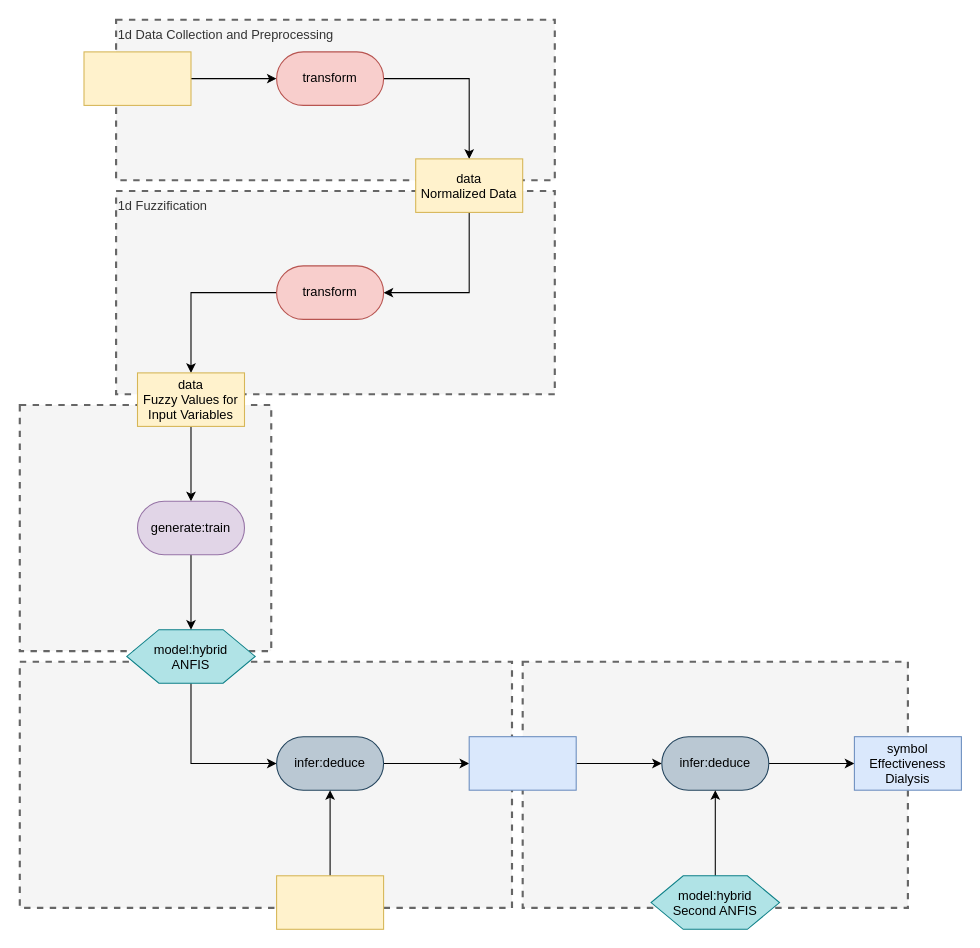
This 980x948 diagram has some shape labels left out. The shapes that lost their labels are listed below. From the top down, each one's box as (x1, y1, x2, y2) in pixels, then its label:
(83, 51, 191, 105): data Raw Patient Data
(18, 403, 272, 652): 1c System Creation
(468, 736, 576, 790): symbol Single Crisp Prediction
(18, 660, 513, 908): 2a Aggregation
(521, 660, 908, 908): 2a Equilibrated Urea Concentration Prediction
(276, 875, 384, 929): data Patient Data
